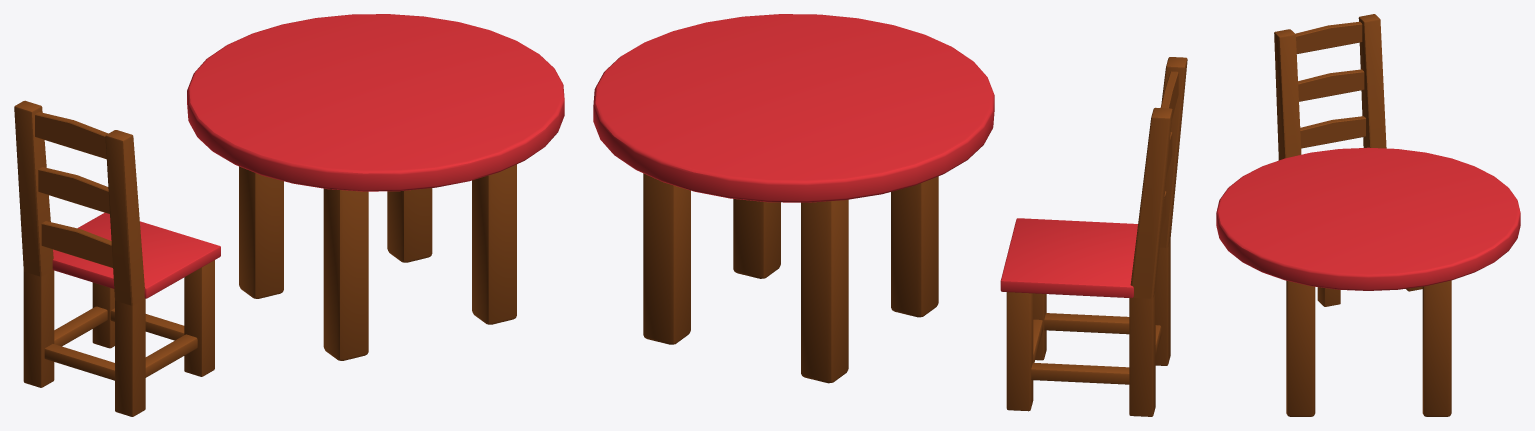
Rendered from masa_sandalye.fbx.
The picture shows the model from 3 angles, left to right: view 1: azimuth 30°, elevation 25°; view 2: azimuth 150°, elevation 25°; view 3: azimuth 270°, elevation 25°; orthographic projection. The views are drawn at different scales.
Visible parts, largest first — view 1: Masa, Sandalye; view 2: Masa, Sandalye; view 3: Masa, Sandalye.
Boxes of the visible parts, left/top/right/bottom form: Masa: left=187, top=14, right=564, bottom=360; Sandalye: left=14, top=100, right=220, bottom=416; Masa: left=593, top=14, right=994, bottom=383; Sandalye: left=1000, top=57, right=1187, bottom=416; Masa: left=1216, top=147, right=1520, bottom=416; Sandalye: left=1274, top=14, right=1422, bottom=306.
Bounding box in the file's own units: 830 × 431 × 521.
